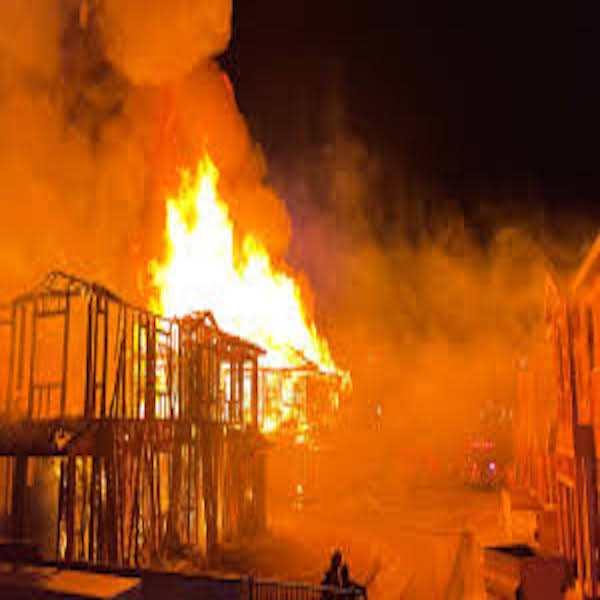fire: (142, 156, 331, 354), (259, 355, 351, 434)
